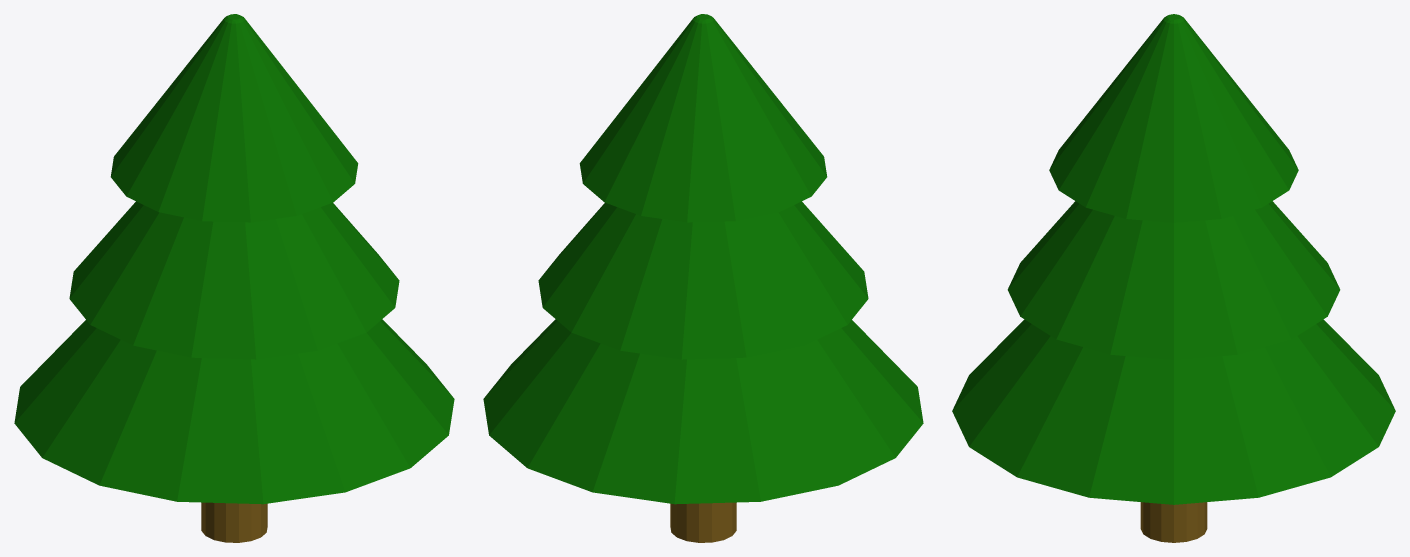
File: Fir_tree.fbx
3 views of the same model, side by side, from view 1: azimuth 30°, elevation 25°; view 2: azimuth 150°, elevation 25°; view 3: azimuth 270°, elevation 25° (orthographic).
Parts seen in each view (by area): view 1: Cylinder; view 2: Cylinder; view 3: Cylinder.
Boxes of the visible parts, x1,y1,x2,y2 form: Cylinder: (14, 14, 454, 542); Cylinder: (483, 14, 923, 542); Cylinder: (952, 14, 1395, 542).
Bounding box in the file's own units: 133 × 170 × 133.
